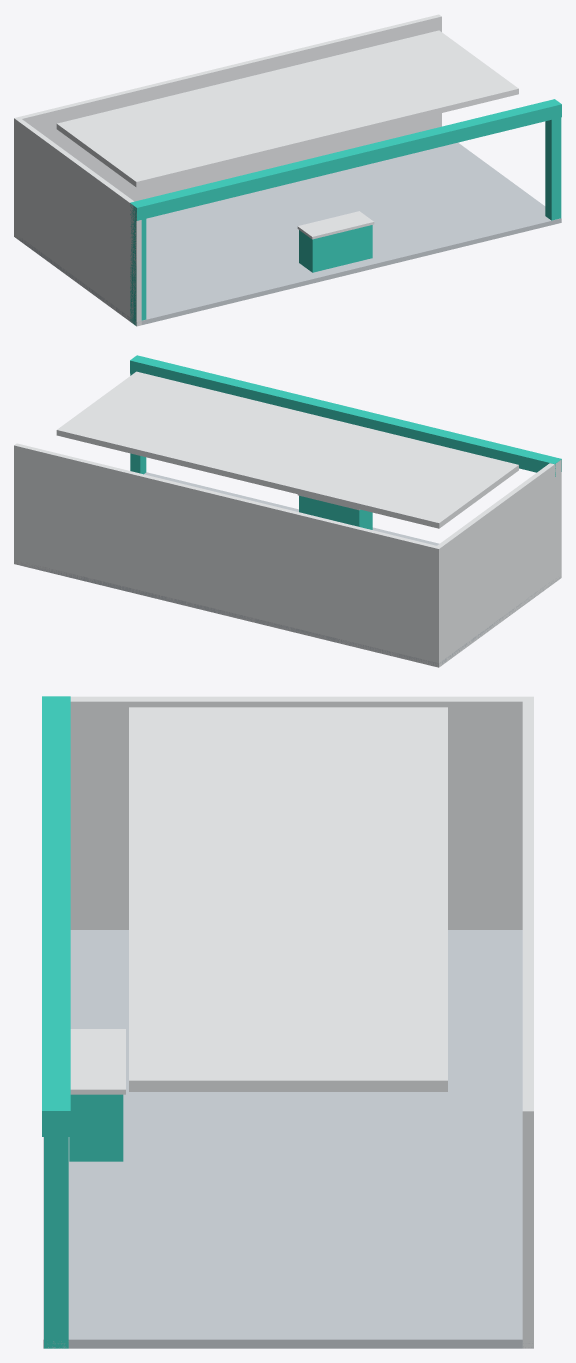
3 renders of one model, top to bottom at view 1: azimuth 30°, elevation 25°; view 2: azimuth 150°, elevation 25°; view 3: azimuth 270°, elevation 25°, orthographic. The views are drawn at different scales.
Parts seen in each view (by area): view 1: Exhibition Booth Concept; view 2: Exhibition Booth Concept; view 3: Exhibition Booth Concept.
Boxes of the visible parts, <box> form: Exhibition Booth Concept: <box>14,14,561,326</box>; Exhibition Booth Concept: <box>14,355,561,667</box>; Exhibition Booth Concept: <box>42,696,533,1348</box>.
Size of the model in its own units: 12 by 3.34 by 6.02.
